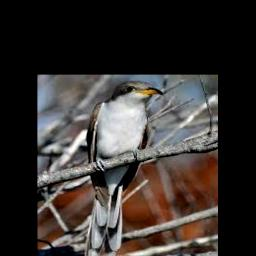Cuckoo: (85, 81, 163, 256)
